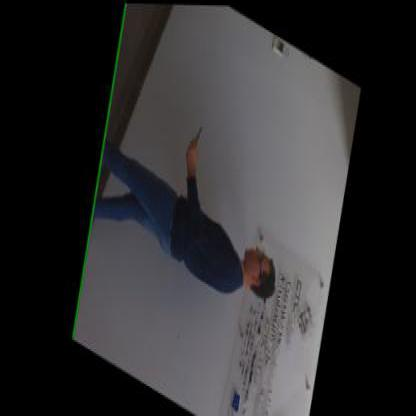knife: (183, 113, 205, 160)
